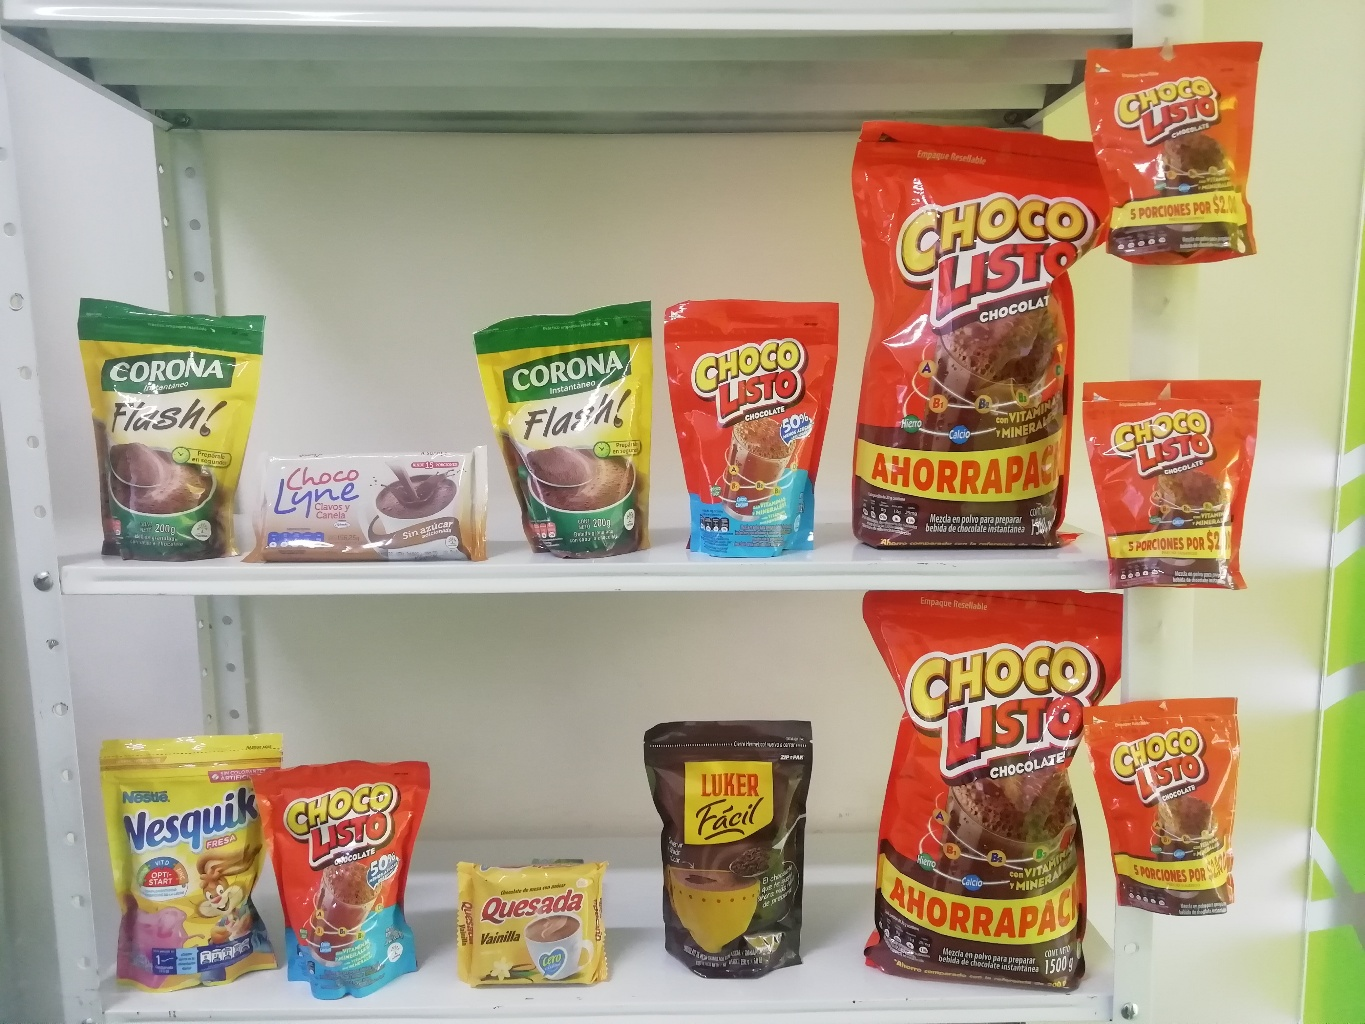COL0170103DYP1,500: (840, 112, 1137, 559)
COL0170104DYP20000: (662, 295, 853, 555)
COL0170305DYP20000: (93, 724, 292, 1002)
